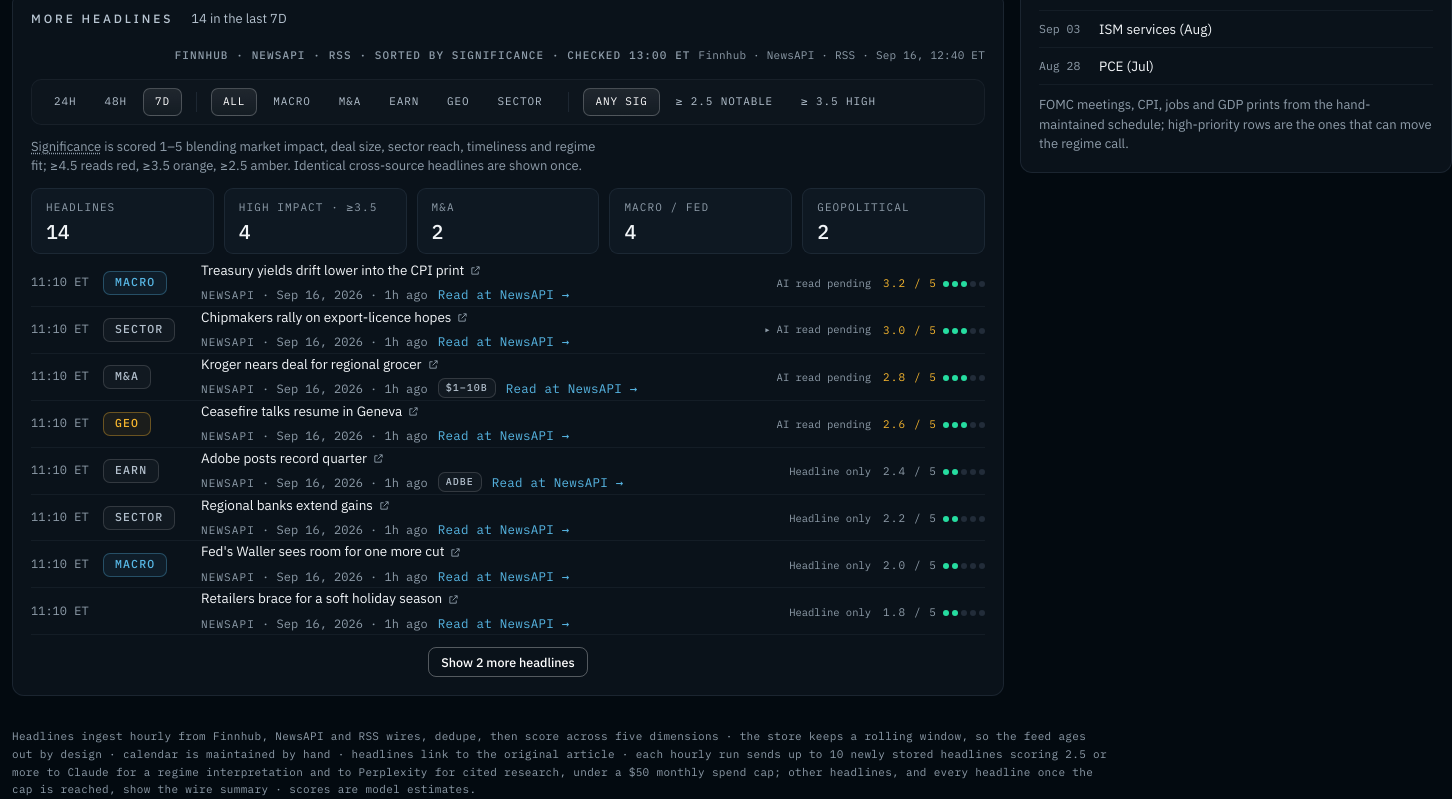
NewsScreen (checklist 08 E.1) › row anatomy: the clock cell, the badge, the headline link, the source span with the time, the chip, Read at, the toggle and the score
The width and height of the screenshot is (1452, 799).
(page scrolled)
Click the button "Show 2 more headlines" at (508, 662), box [428,648,588,678]
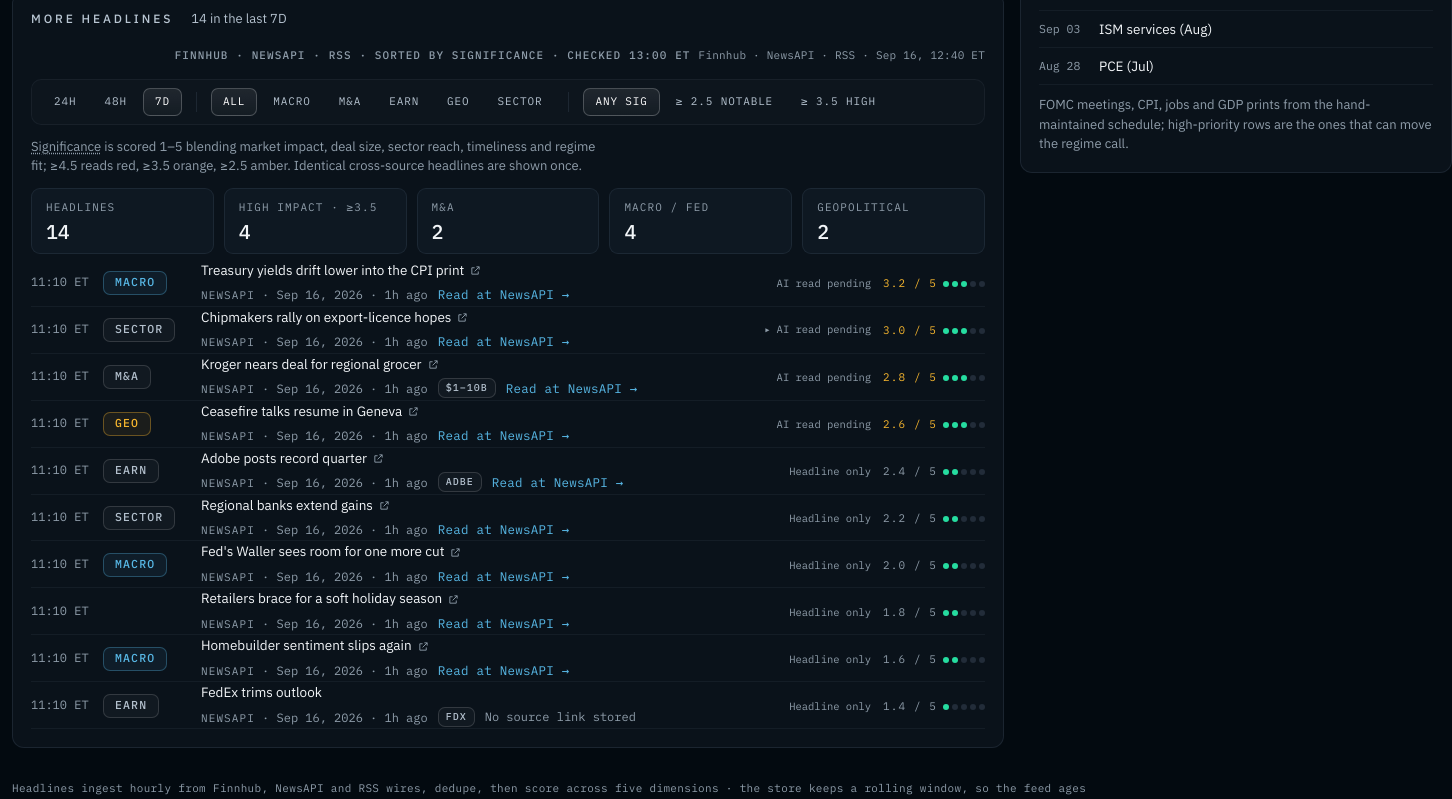
Expected: the element showing "3.2 / 5" is shown, [883,276,985,290]
Expected: the element showing "1.6 / 5" is shown, [883,652,985,666]
Expected: the element showing "1.4 / 5" is shown, [883,699,985,713]
